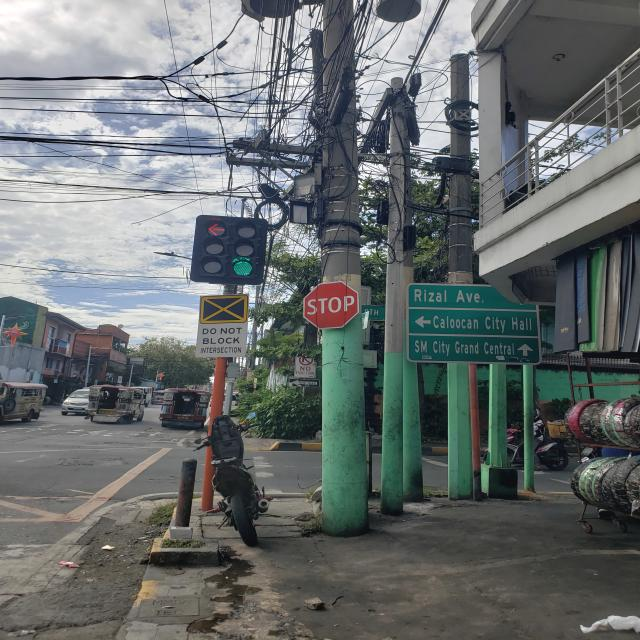stop-sign: (303, 280, 359, 330)
